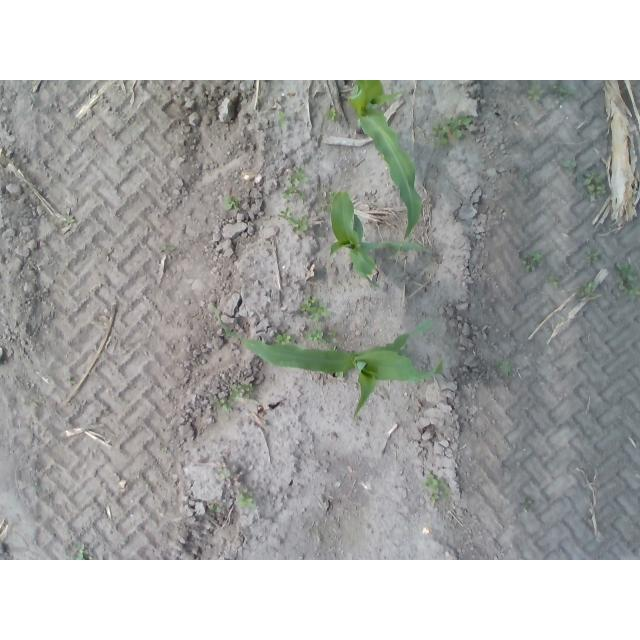Maize: (209, 302, 444, 421), (352, 81, 425, 240), (329, 191, 431, 288)
Weeds: (429, 113, 472, 151), (422, 474, 453, 505), (281, 167, 308, 202), (301, 295, 332, 323), (582, 171, 608, 201), (617, 281, 640, 302), (520, 252, 544, 272), (576, 281, 601, 300), (548, 84, 574, 102), (524, 80, 545, 101), (615, 262, 637, 282), (231, 384, 254, 402), (236, 488, 256, 508), (493, 358, 512, 379), (305, 325, 327, 343), (559, 156, 577, 177), (320, 188, 335, 213), (68, 542, 88, 560), (273, 332, 296, 346), (212, 397, 233, 412), (289, 216, 307, 233), (223, 195, 241, 212), (584, 248, 600, 265), (325, 107, 341, 122), (277, 110, 287, 129), (278, 208, 291, 221), (550, 275, 562, 289), (209, 504, 224, 514), (216, 470, 228, 479), (328, 345, 341, 352), (161, 245, 176, 251), (67, 378, 77, 386), (65, 216, 75, 224), (336, 371, 349, 377), (155, 445, 166, 452), (328, 331, 337, 338)
